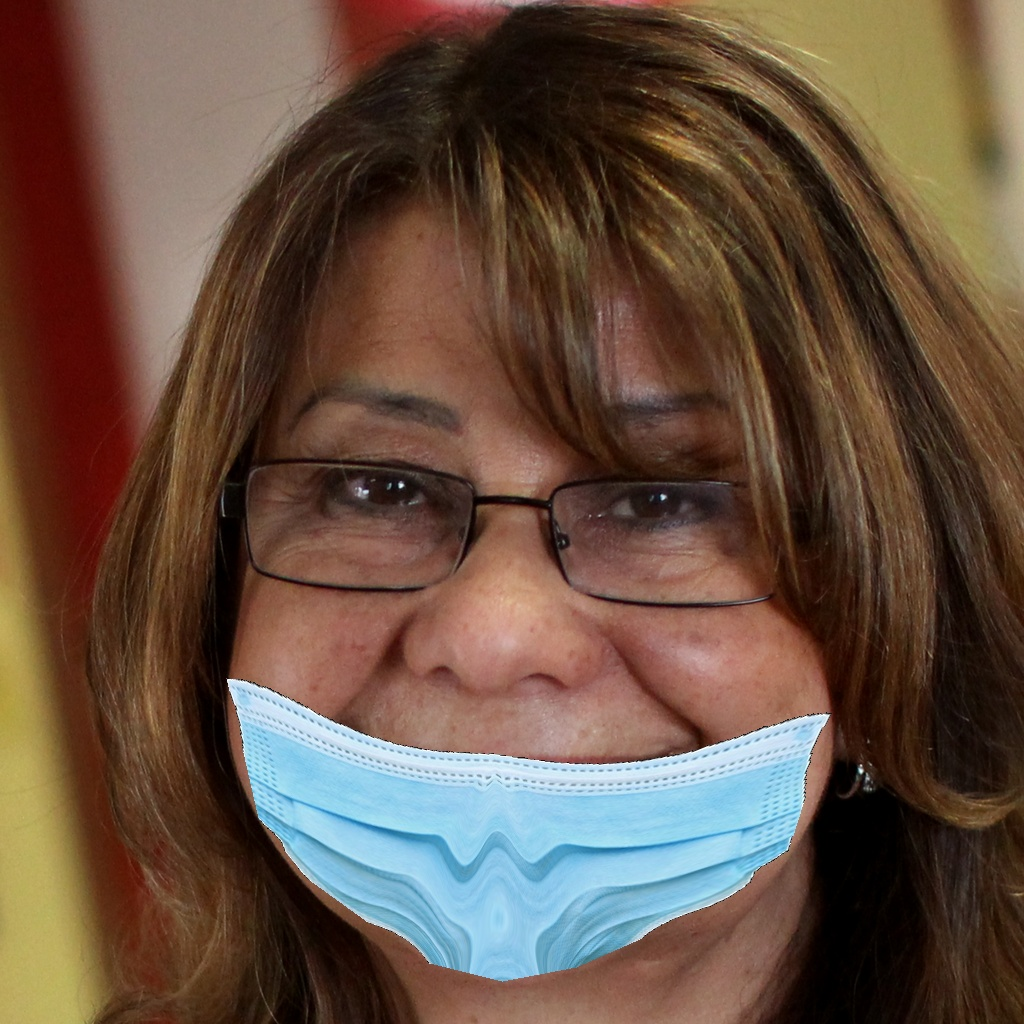mask_weared_incorrect: (236, 374, 832, 982)
